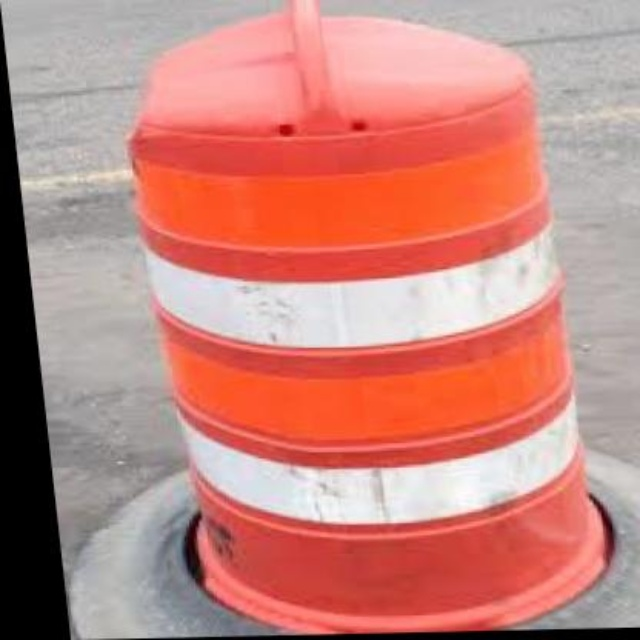obstacle: (116, 7, 595, 635)
